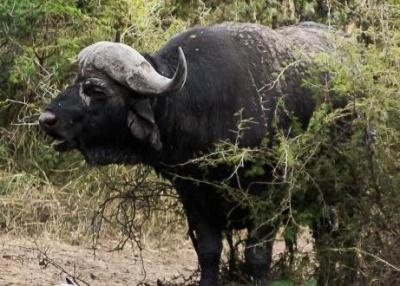buffalo: (39, 22, 355, 285)
